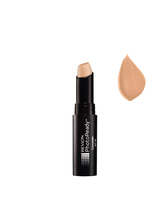other: (63, 58, 108, 184)
